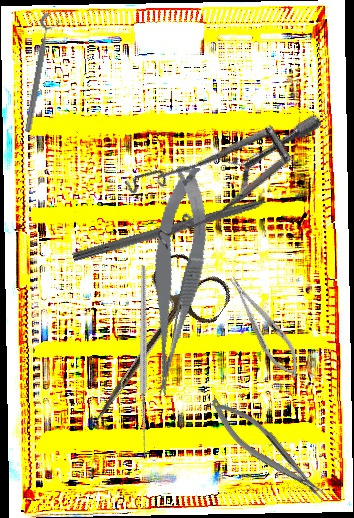Fixation Ring: (21, 11, 62, 135)
Hook Surgical: (58, 263, 238, 463), (71, 188, 297, 265)
Iris Scissors: (68, 246, 237, 444)
Micro Scissor: (124, 162, 224, 399)
Needle Holder: (202, 388, 332, 512), (219, 268, 310, 385)
Speculum: (106, 47, 325, 283)
